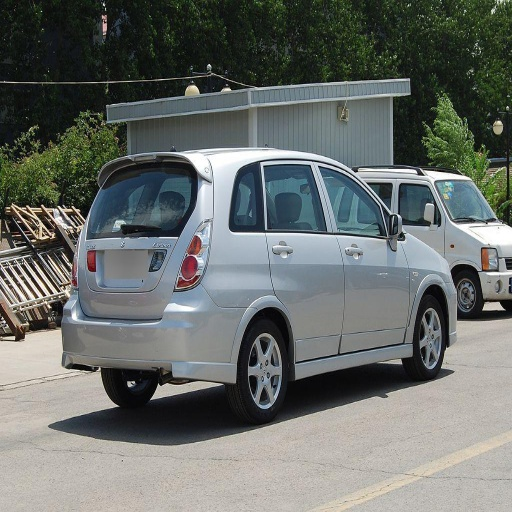back_bumper: (63, 284, 248, 379)
back_right_door: (251, 161, 342, 359)
tailgate: (76, 236, 176, 312)
trunk: (84, 245, 185, 315)
